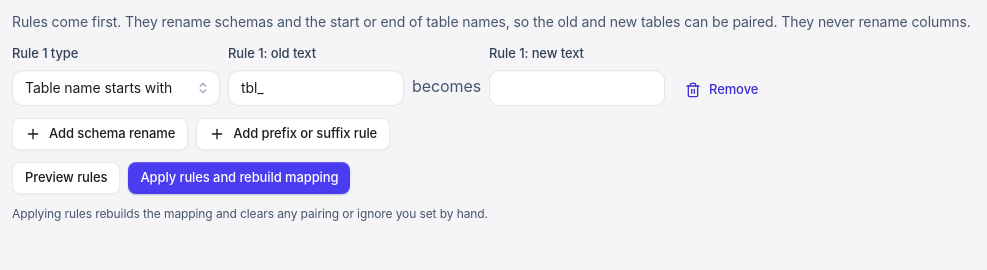
Scenario: RuleEditor › previews how many tables the rules pair without applying them
What coordinates should you click on to do the following:
click the button "Preview rules"
I would click on:
 (66, 178)
Its box is [12,162,120,194].
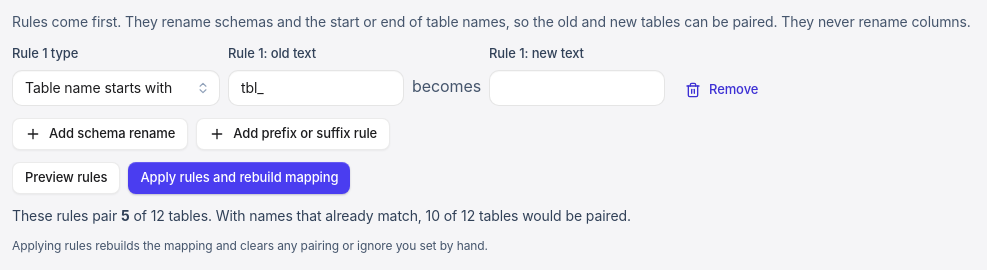
Check: the message shows "pair 5 of 12 tables", box [12,206,631,224]
